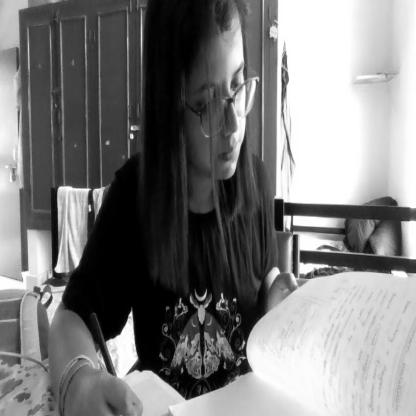Distracted: (149, 0, 251, 191)
